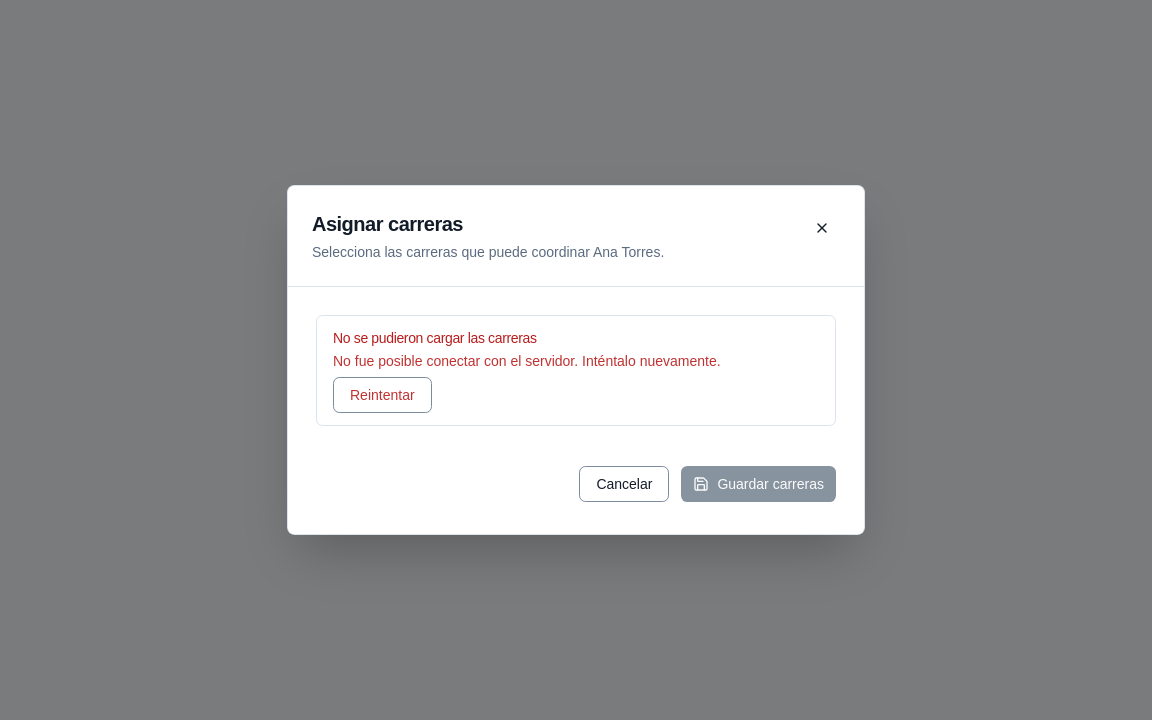
it: Asignación de carreras a coordinadores › permite reintentar la carga y conserva la selección cuando el servidor rechaza guardar
The width and height of the screenshot is (1152, 720).
Click the button "Reintentar". click: (382, 395)
box: [333, 377, 432, 413]
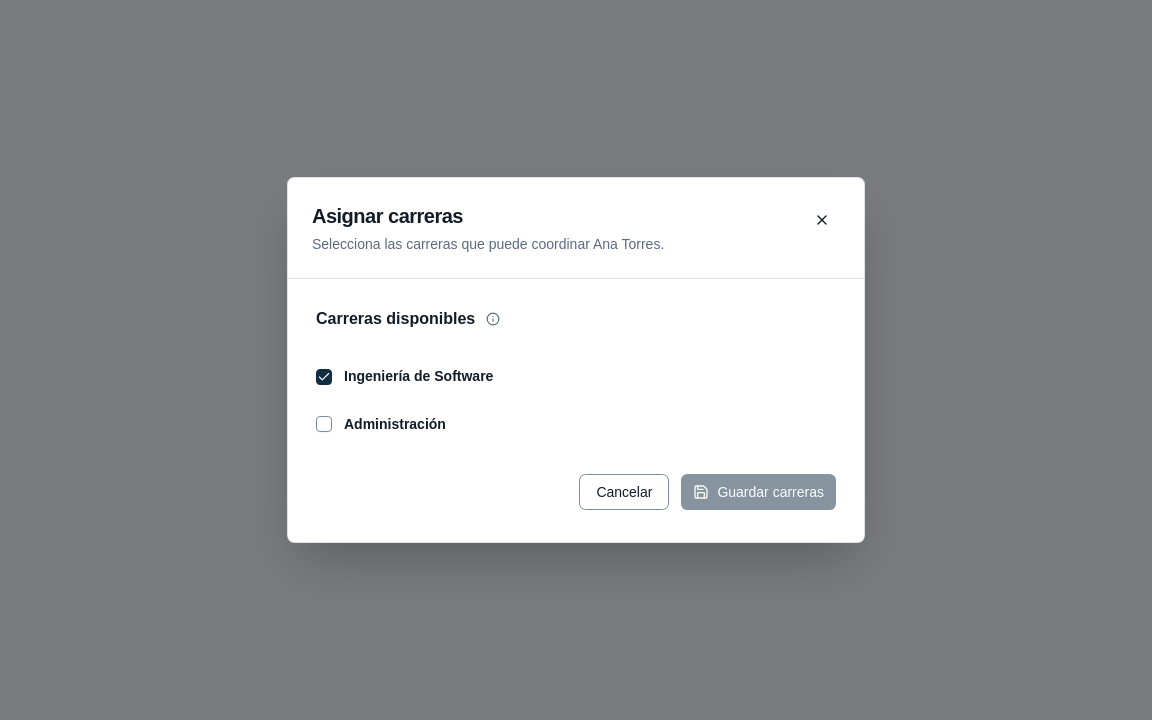
Click the checkbox named "Administración" next to "Administración". click: (324, 424)
box: [316, 416, 332, 432]
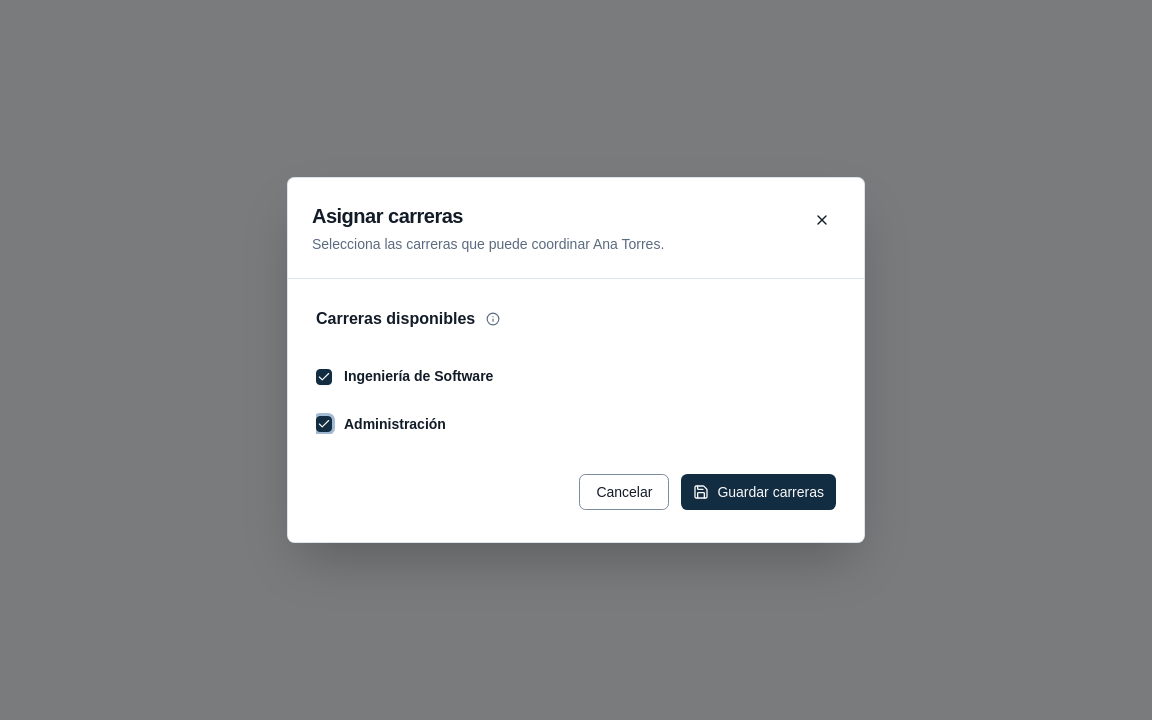
Click the button "Guardar carreras". click: (759, 492)
box: [681, 474, 836, 510]
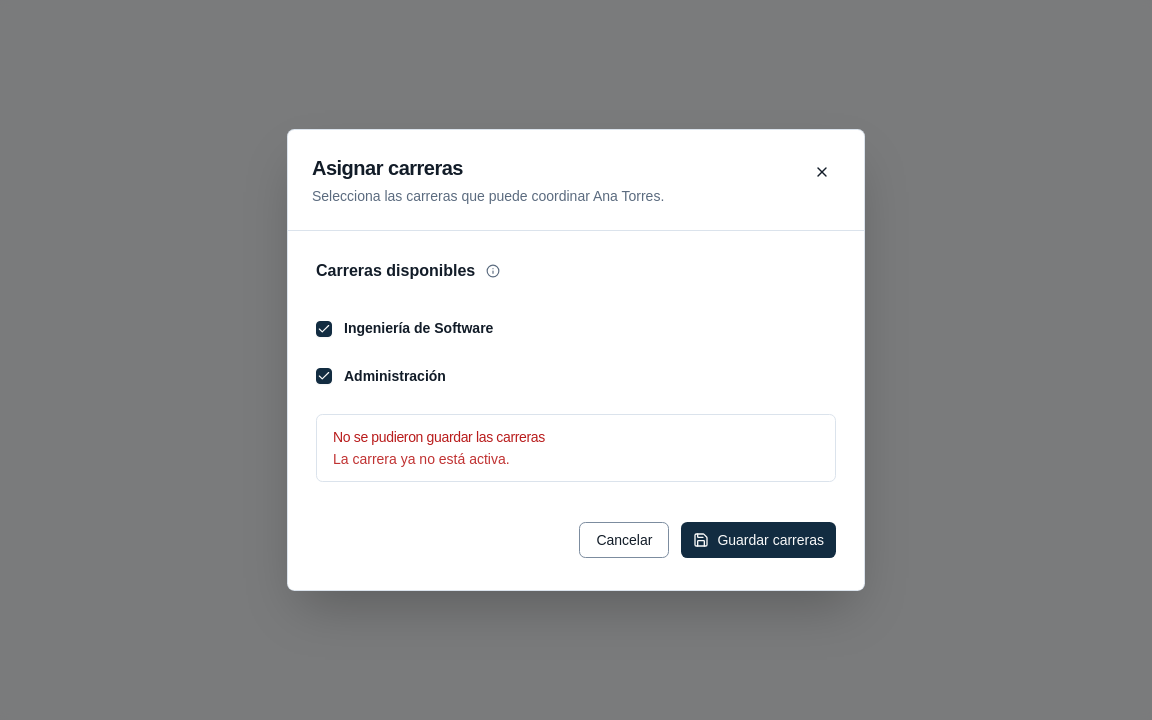
Expected: the checkbox named "Administración" next to "Administración" is checked, [316, 368, 332, 384]
Expected: the button "Guardar carreras" is enabled, [681, 522, 836, 558]
Expected: the text "La carrera ya no está activa." is shown, [333, 451, 510, 467]
